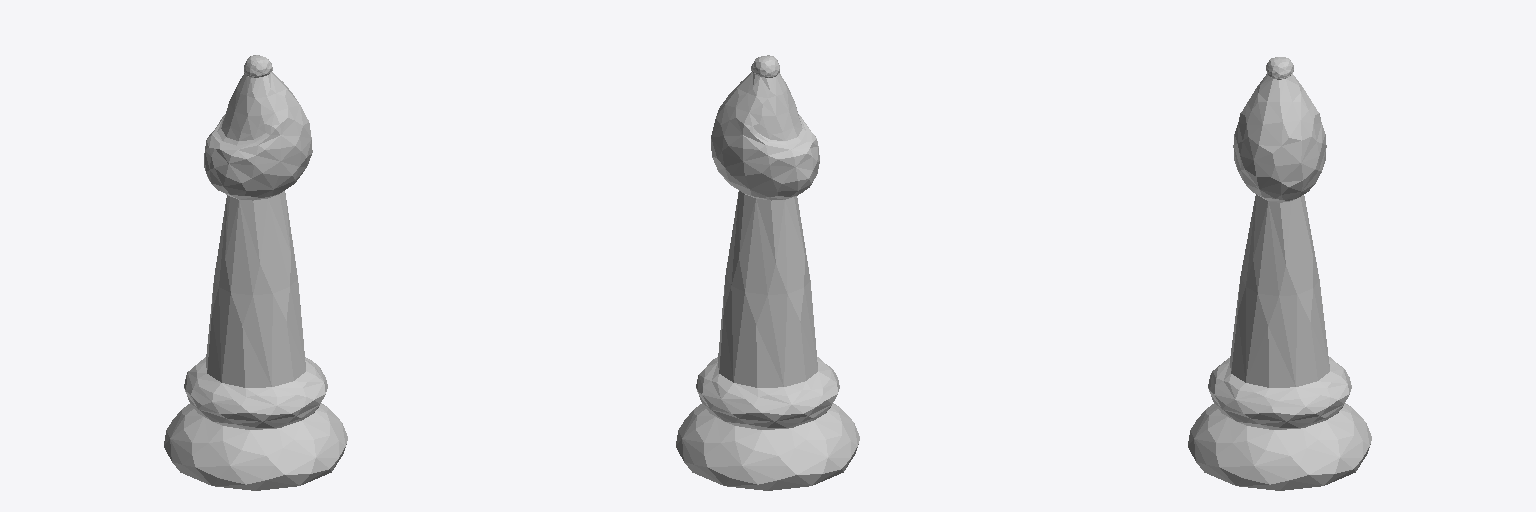
File: Alfil.obj
The picture shows the model from 3 angles: view 1: azimuth 30°, elevation 25°; view 2: azimuth 150°, elevation 25°; view 3: azimuth 270°, elevation 25°; orthographic projection.
Visible parts, largest first — view 1: Bishop.001_Bishop.003; view 2: Bishop.001_Bishop.003; view 3: Bishop.001_Bishop.003.
Part boxes in pixels (bbox=[...]): Bishop.001_Bishop.003: bbox=[164, 55, 347, 490]; Bishop.001_Bishop.003: bbox=[676, 55, 859, 490]; Bishop.001_Bishop.003: bbox=[1188, 57, 1371, 490].
Size of the model in its own units: 2.29 by 5.49 by 2.32.